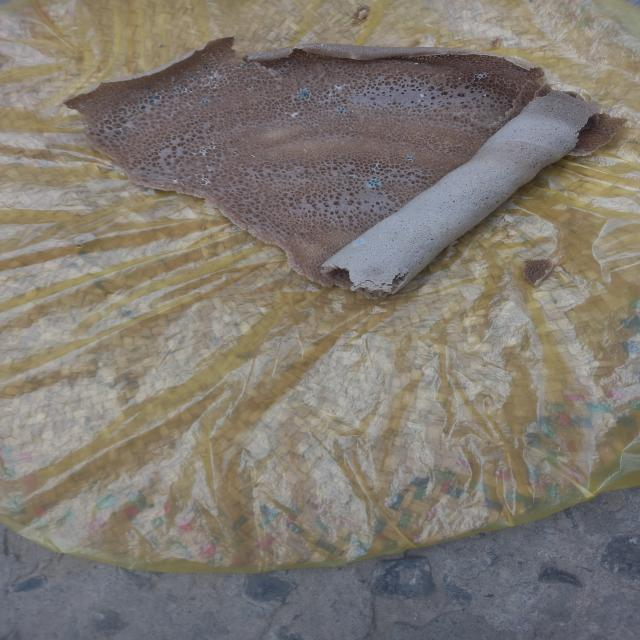injera_mold: (198, 69, 226, 90), (191, 141, 218, 157), (328, 82, 350, 96), (191, 173, 212, 187), (295, 87, 313, 101), (472, 71, 493, 82), (365, 179, 382, 188), (350, 238, 365, 247), (172, 84, 186, 92), (372, 161, 383, 171), (198, 97, 212, 104), (138, 104, 148, 110), (406, 156, 415, 162), (150, 95, 158, 101), (188, 74, 196, 80), (285, 59, 293, 65), (337, 109, 345, 114), (247, 86, 255, 91), (291, 112, 298, 117), (103, 125, 110, 130), (172, 179, 179, 183), (204, 66, 209, 70), (313, 123, 319, 126), (420, 94, 424, 98), (482, 94, 489, 96), (350, 175, 354, 178), (414, 62, 419, 64), (103, 118, 108, 120), (458, 78, 462, 80), (448, 92, 452, 94), (418, 100, 421, 102), (446, 90, 448, 92)
